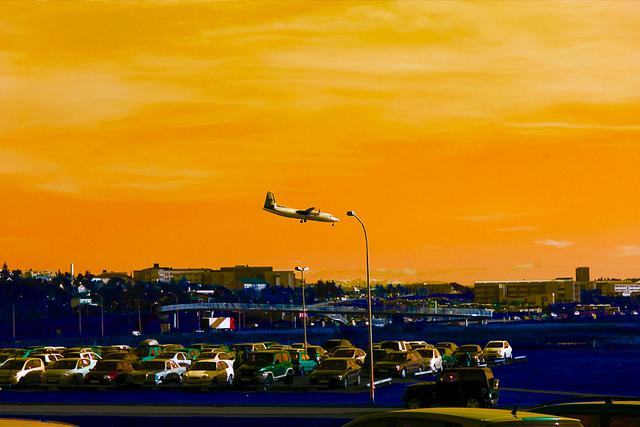Airplane: (264, 191, 341, 224)
